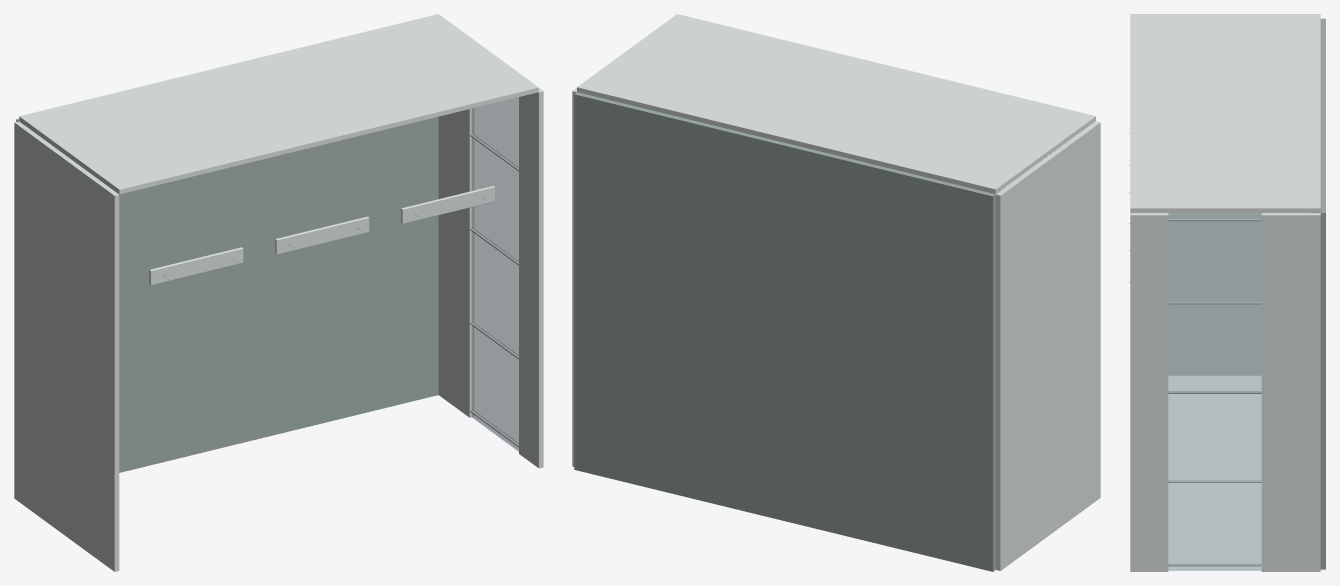
Rendered from shell.glb.
3 views of the same model, side by side, from view 1: azimuth 30°, elevation 25°; view 2: azimuth 150°, elevation 25°; view 3: azimuth 270°, elevation 25° (orthographic). The views are drawn at different scales.
Parts seen in each view (by area): view 1: Floor, Back wall, Left wall, Observation glazing, Right lower wall, Right upper wall, Ceiling luminaire 0, Ceiling luminaire 1, Ceiling luminaire 2; view 2: Floor, Back wall, Left wall, Right lower wall; view 3: Back wall, Observation glazing, Right lower wall, Left wall, Right upper wall, Floor, Window mullion -2.7, Window mullion -1.3, Window mullion 0.2, Window mullion 1.7, Window mullion 3.1.
Boxes of the visible parts, bbox=[...] form: Floor: bbox=[16, 117, 438, 472]; Back wall: bbox=[19, 14, 538, 194]; Left wall: bbox=[14, 121, 119, 571]; Observation glazing: bbox=[471, 97, 518, 451]; Right lower wall: bbox=[438, 108, 473, 417]; Right upper wall: bbox=[519, 88, 543, 468]; Ceiling luminaire 0: bbox=[149, 247, 243, 285]; Ceiling luminaire 1: bbox=[275, 216, 369, 254]; Ceiling luminaire 2: bbox=[401, 186, 494, 223]; Floor: bbox=[574, 92, 995, 571]; Back wall: bbox=[577, 14, 1095, 194]; Left wall: bbox=[996, 121, 1100, 570]; Right lower wall: bbox=[572, 88, 576, 466]; Back wall: bbox=[1130, 14, 1320, 212]; Observation glazing: bbox=[1168, 213, 1261, 570]; Right lower wall: bbox=[1261, 213, 1320, 571]; Left wall: bbox=[1130, 212, 1310, 375]; Right upper wall: bbox=[1130, 213, 1168, 571]; Floor: bbox=[1320, 18, 1325, 569]; Window mullion -2.7: bbox=[1168, 564, 1261, 566]; Window mullion -1.3: bbox=[1168, 480, 1261, 482]; Window mullion 0.2: bbox=[1168, 391, 1261, 393]; Window mullion 1.7: bbox=[1168, 302, 1261, 304]; Window mullion 3.1: bbox=[1168, 219, 1261, 221].
Bounding box in the file's own units: 7.16 × 6.08 × 3.
